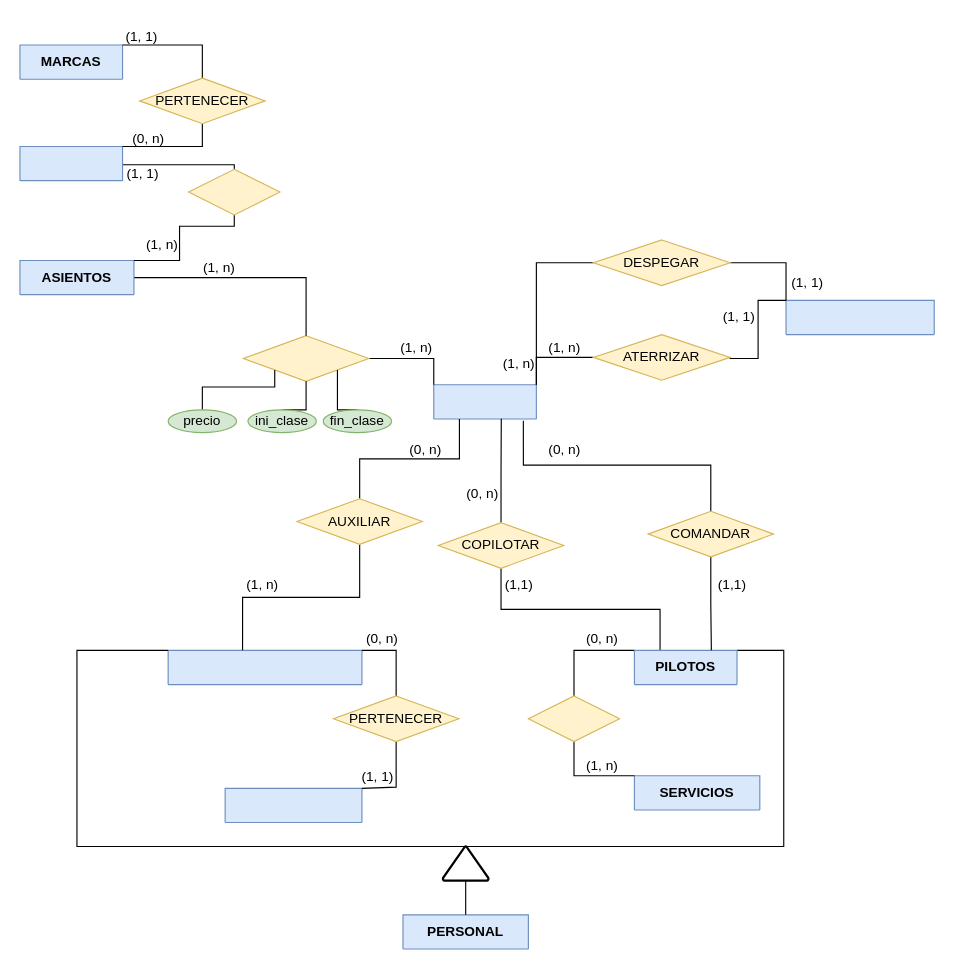
Some shapes in this 954 by 969 pixel diagram are drawn without their labels. The shapes that lost their labels are listed below. From the top down, each one's box as (x1, y1, x2, y2) in pixels, then its label:
(19, 145, 123, 181): AVIONES
(188, 168, 280, 215): TENER
(785, 299, 934, 335): AEROPUERTOS
(242, 335, 369, 381): ORGANIZAR
(433, 384, 536, 419): VUELOS
(167, 649, 362, 685): PERSONAL_AUXILIAR
(527, 695, 620, 742): REALIZAR
(224, 787, 362, 823): CATEGORIAS
